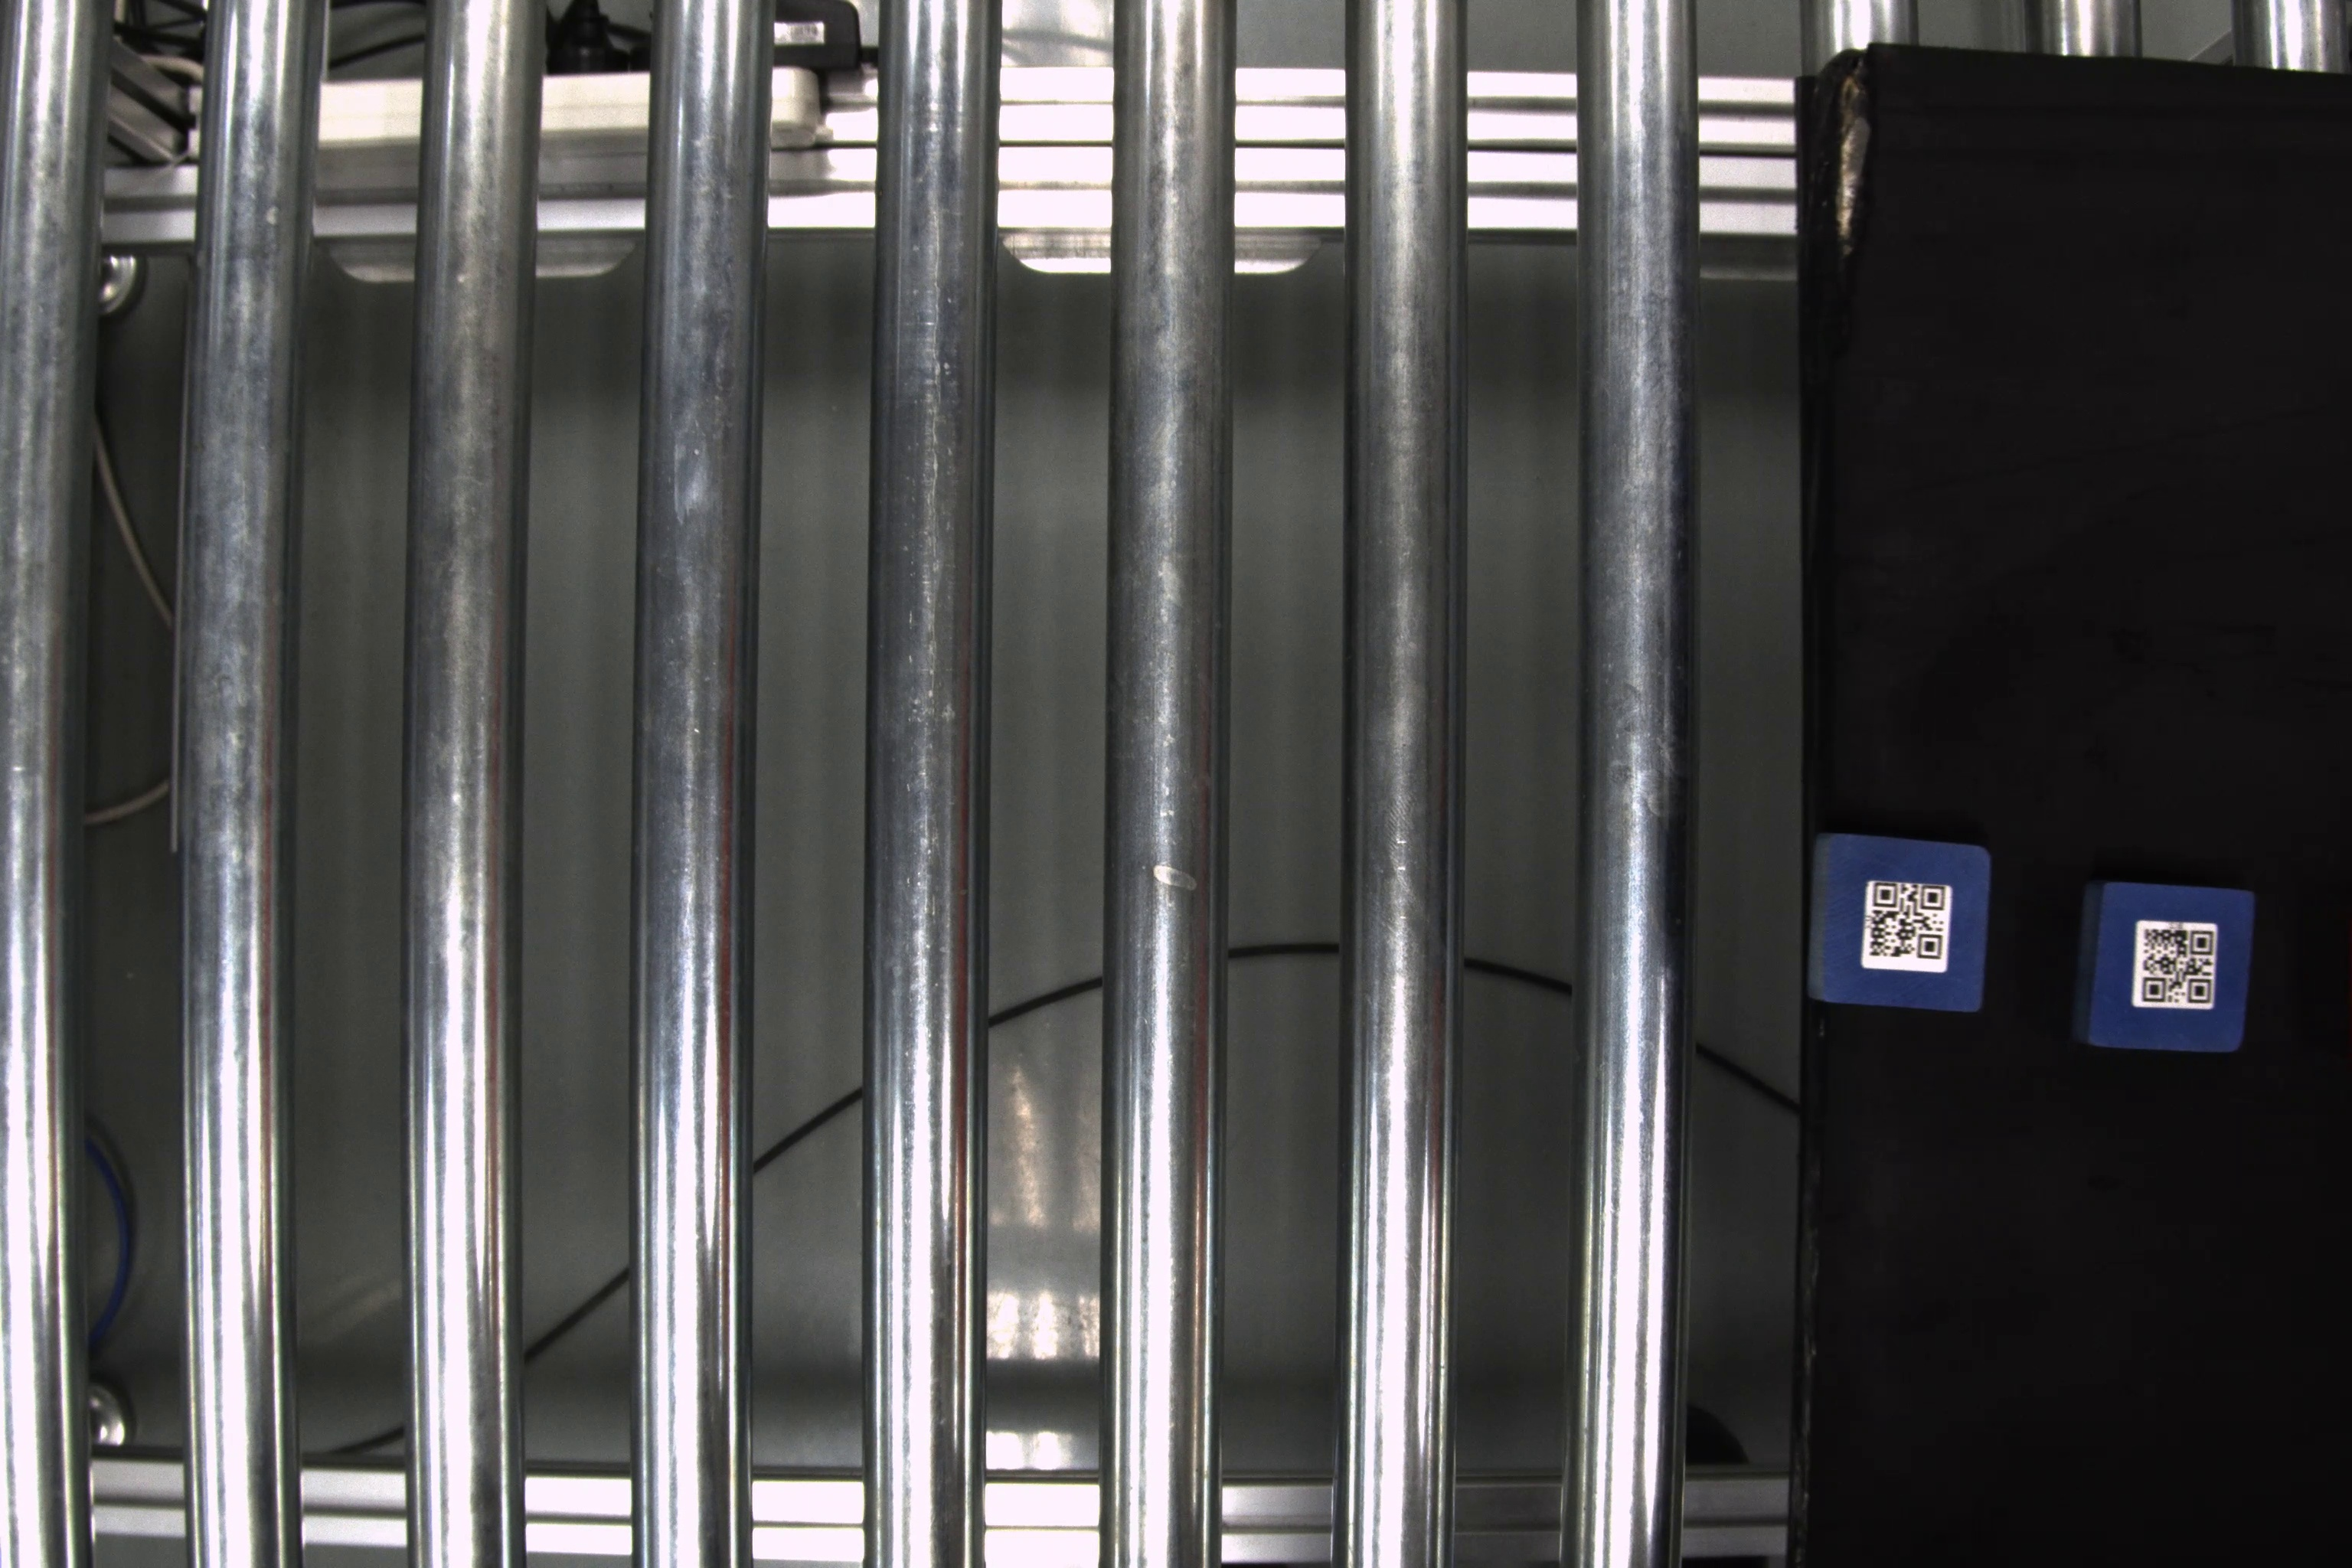wood: (1806, 829, 1995, 1018), (2079, 880, 2259, 1057)
